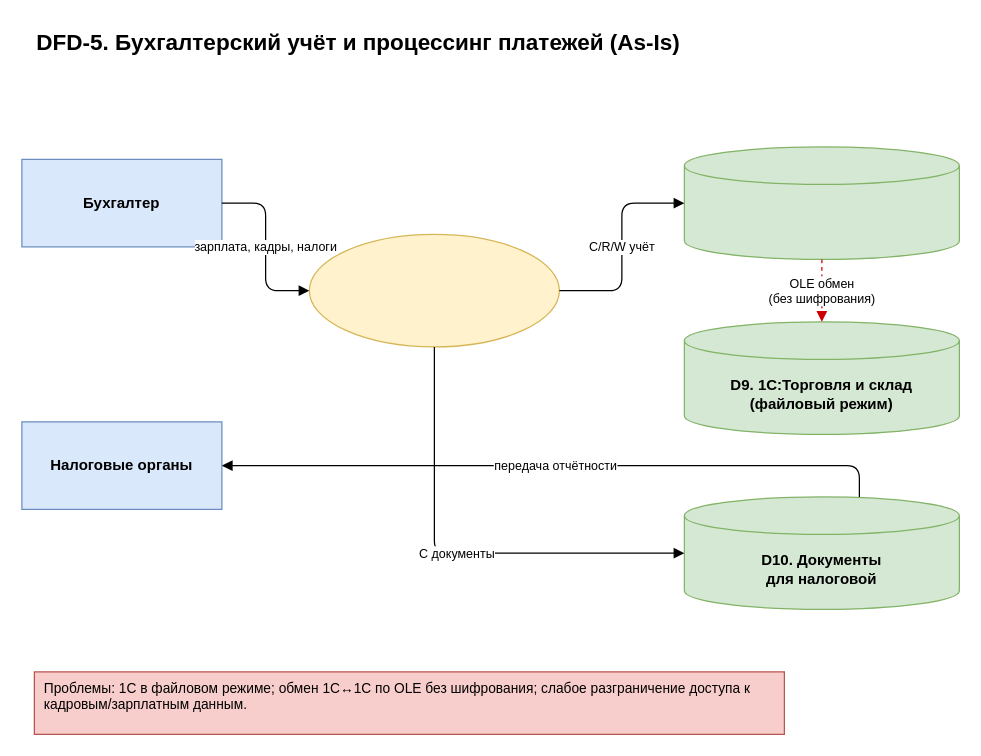
Image size: 981x756. Some labels were removed from this diagram. The shapes that lost their labels are listed below. From the top down, each one's centre as x and y in pixels, then its label:
At [821,202]: "D7. 1С:Бухгалтерия (файловый режим)".
At [433,290]: "P5. Бухгалтерский учёт и процессинг платежей".
